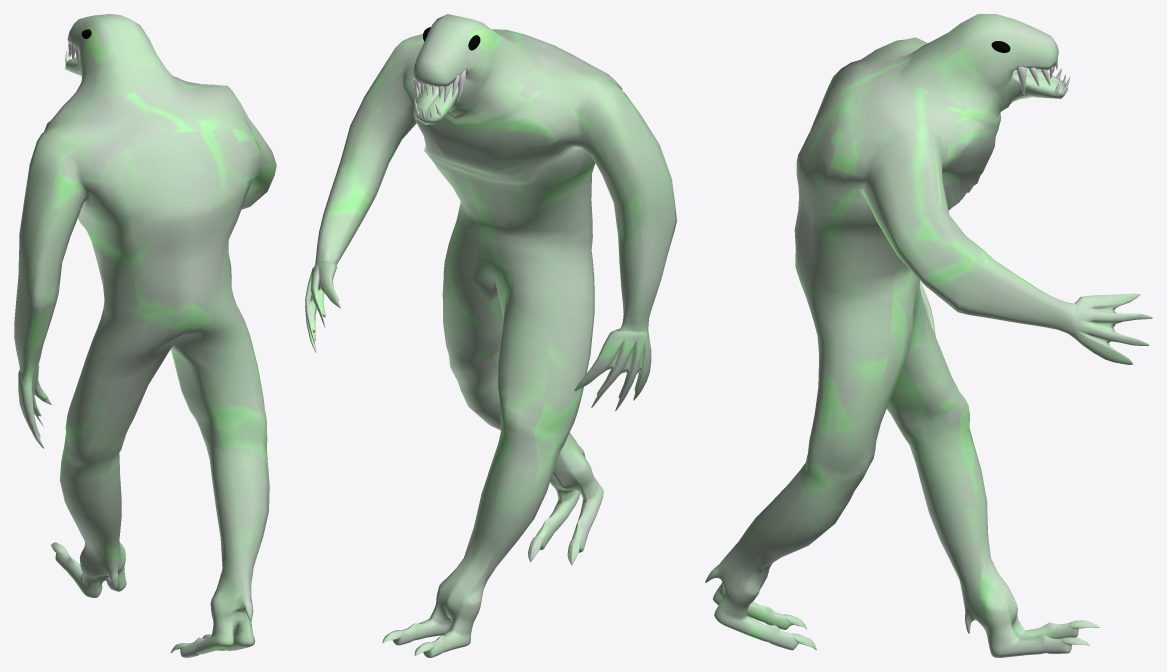
The model's file is Berserkerandar.0073.obj.
3 views of the same model, side by side, from view 1: azimuth 30°, elevation 25°; view 2: azimuth 150°, elevation 25°; view 3: azimuth 270°, elevation 25° (orthographic). The views are drawn at different scales.
Visible parts, largest first — view 1: polySurface27; view 2: polySurface27; view 3: polySurface27.
Boxes of the visible parts, x1,y1,x2,y2 form: polySurface27: (14, 14, 276, 657); polySurface27: (305, 14, 676, 657); polySurface27: (705, 14, 1152, 657).
Bounding box in the file's own units: 11.6 × 23.64 × 15.06.
1 material, 1 textured.
